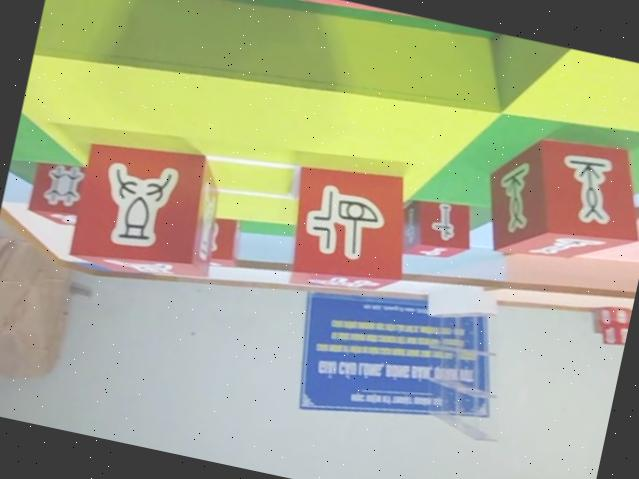R2 Real: (475, 116, 639, 278), (67, 130, 233, 290), (278, 152, 421, 308), (398, 186, 481, 267), (25, 152, 90, 226)
